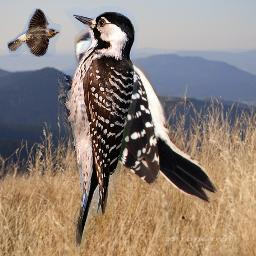Swallow: (7, 8, 61, 57)
Woodpecker: (74, 29, 219, 208), (58, 5, 139, 254)
